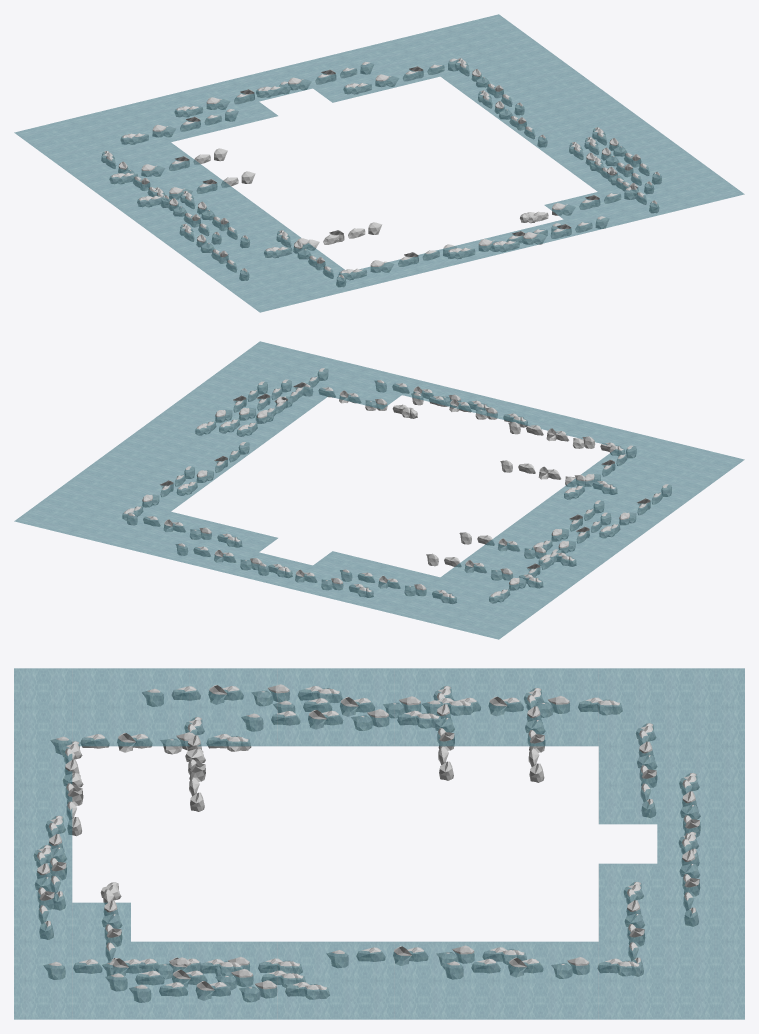
Rendered from minguwu_shui.fbx.
The picture shows the model from 3 angles, top to bottom: view 1: azimuth 30°, elevation 25°; view 2: azimuth 150°, elevation 25°; view 3: azimuth 270°, elevation 25°; orthographic projection. The views are drawn at different scales.
Visible parts, largest first — view 1: hengbing_1.017, hengbing_1.007, hengbing_1.022, hengbing_1.008, hengbing_1.012, hengbing_1.005, hengbing_1.009, hengbing_1.010, hengbing_1.004, hengbing_1.006, hengbing_1.018, hengbing_1.014 (+11 smaller); view 2: hengbing_1.017, hengbing_1.004, hengbing_1.005, hengbing_1.003, hengbing_1.012, hengbing_1.008, hengbing_1.010, hengbing_1.007, hengbing_1.006, hengbing_1.009, hengbing_1.018, hengbing_1.019 (+11 smaller); view 3: hengbing_1.017, hengbing_1.011, hengbing_1.020, hengbing_1.015, hengbing_1.023, hengbing_1.014, hengbing_1.016, hengbing_1.019, hengbing_1.024, hengbing_1.025, hengbing_1.021, hengbing_1.004 (+11 smaller).
Part boxes in pixels (x1,y1,x2,y2): hengbing_1.017: (14,14,744,312); hengbing_1.007: (109,148,227,183); hengbing_1.022: (491,216,609,251); hengbing_1.008: (120,109,238,144); hengbing_1.012: (520,187,637,223); hengbing_1.005: (264,222,382,257); hengbing_1.009: (256,62,373,97); hengbing_1.010: (343,58,457,94); hengbing_1.004: (339,244,456,279); hengbing_1.006: (137,171,255,206); hengbing_1.018: (174,81,290,116); hengbing_1.014: (478,90,547,147); hengbing_1.017: (14,341,744,639); hengbing_1.004: (508,422,624,455); hengbing_1.005: (500,460,617,494); hengbing_1.003: (411,393,527,427); hengbing_1.012: (304,384,417,418); hengbing_1.008: (340,569,456,603); hengbing_1.010: (127,513,242,547); hengbing_1.007: (426,553,543,588); hengbing_1.006: (459,532,576,566); hengbing_1.009: (175,543,292,577); hengbing_1.018: (258,563,373,597); hengbing_1.019: (219,379,291,433); hengbing_1.017: (14,668,744,1019); hengbing_1.011: (441,957,641,979); hengbing_1.020: (129,980,329,1002); hengbing_1.015: (241,709,440,731); hengbing_1.023: (142,684,342,706); hengbing_1.014: (326,945,526,967); hengbing_1.016: (50,732,251,754); hengbing_1.019: (105,969,305,991); hengbing_1.024: (273,696,473,717); hengbing_1.025: (422,695,622,717); hengbing_1.021: (43,957,242,979); hengbing_1.004: (62,741,83,836).
Bounding box in the file's own units: 28451 × 768 × 25000.
